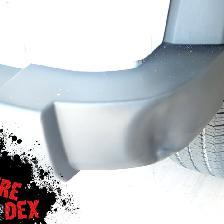bumper_dent: (89, 74, 215, 187)
